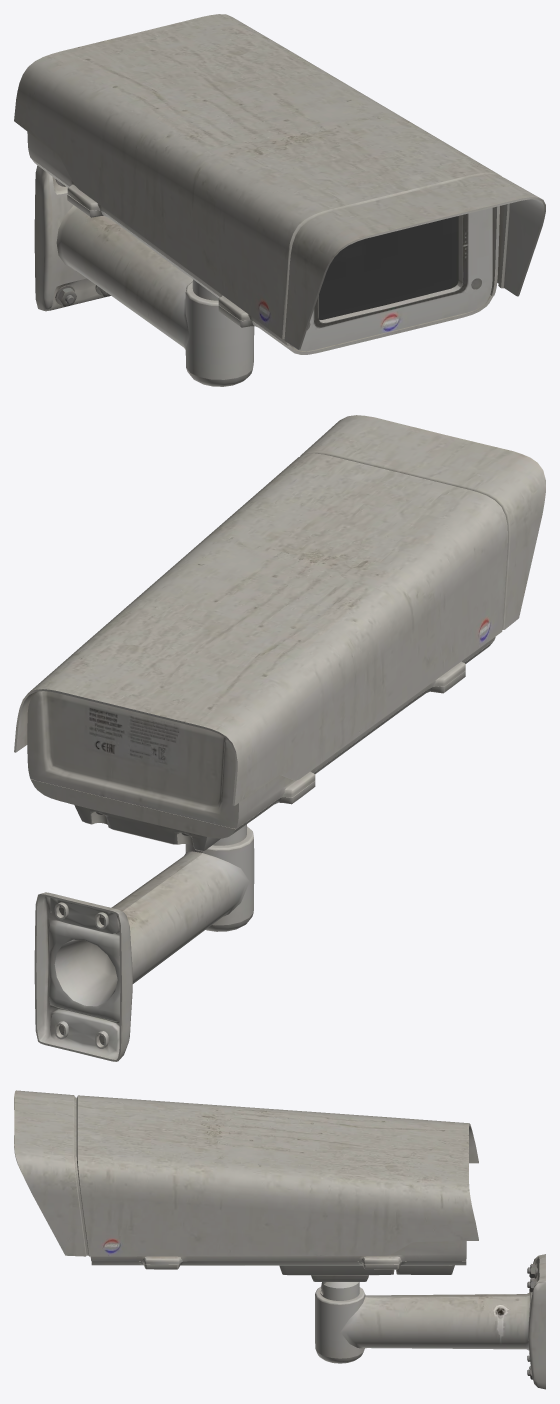
Rendered from security-camera-b.glb.
3 renders of one model, top to bottom at view 1: azimuth 30°, elevation 25°; view 2: azimuth 150°, elevation 25°; view 3: azimuth 270°, elevation 25°, orthographic. The views are drawn at different scales.
Visible parts, largest first — view 1: security_camera_02, security_camera_02_mount; view 2: security_camera_02, security_camera_02_mount; view 3: security_camera_02, security_camera_02_mount.
Part boxes in pixels (x1,y1,x2,y2): security_camera_02: [14, 14, 545, 354]; security_camera_02_mount: [34, 165, 254, 386]; security_camera_02: [14, 415, 545, 851]; security_camera_02_mount: [34, 824, 254, 1061]; security_camera_02: [14, 1090, 478, 1294]; security_camera_02_mount: [315, 1254, 545, 1389].
Size of the model in its own units: 0.1407 by 0.2086 by 0.3938.
Materials: 2 (2 with a texture image).
